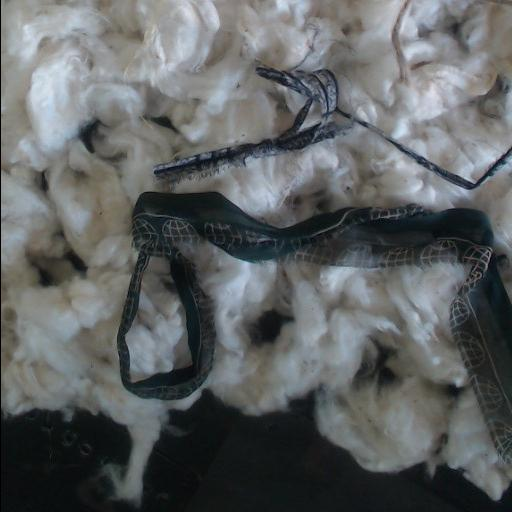cloth: (117, 192, 512, 459), (155, 66, 512, 188)
conveyor belt: (1, 392, 512, 511), (250, 310, 291, 344), (361, 342, 394, 384)
cotton: (1, 0, 512, 503), (173, 127, 512, 263), (128, 275, 183, 377)
jute: (392, 0, 414, 80)
